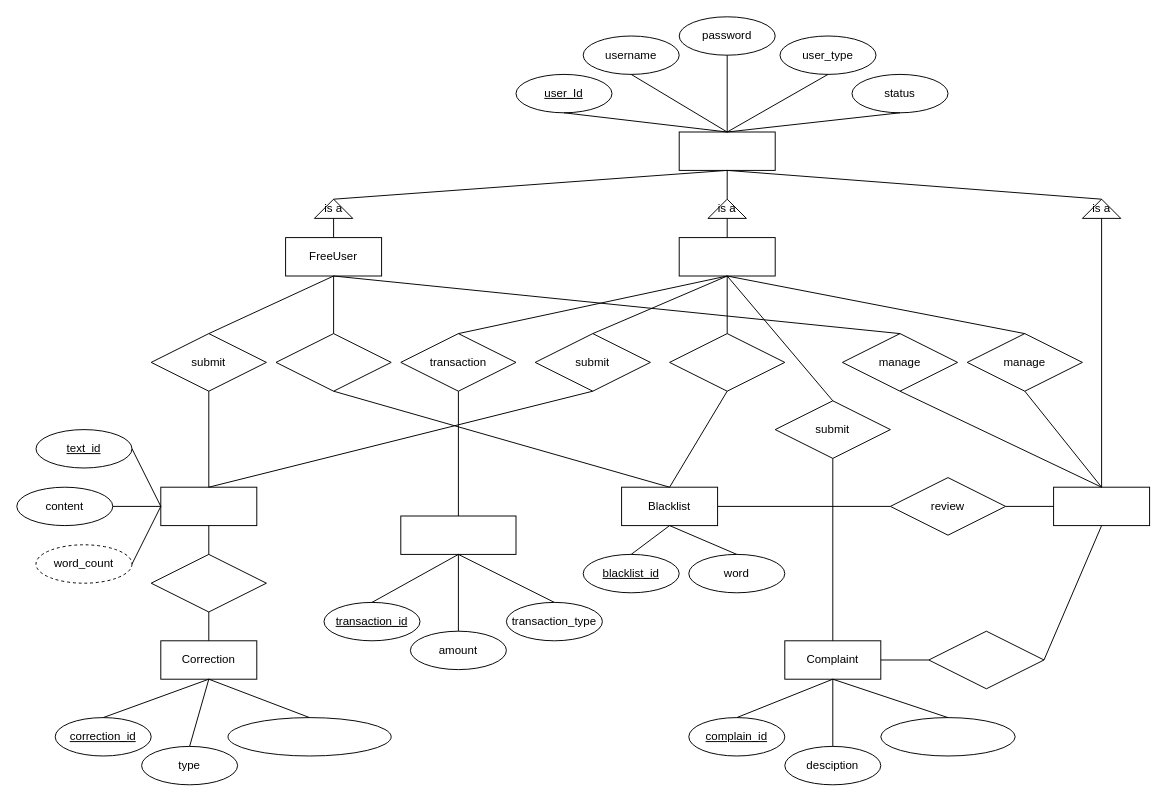
This 1166x802 diagram has some shape labels left out. Here are the shapes that lost their labels. From the top down, the box of each, then its label:
(678, 131, 775, 170): User
(678, 237, 775, 276): PaidUser
(275, 333, 391, 391): flaged
(669, 333, 785, 391): flagged
(160, 486, 257, 526): Text
(1053, 486, 1150, 526): SuperUser
(400, 515, 516, 554): TokenTransaction
(150, 553, 266, 612): correct
(928, 630, 1044, 689): handle
(227, 717, 391, 756): self_corrected_word_count
(880, 717, 1015, 756): punishment_tokens
